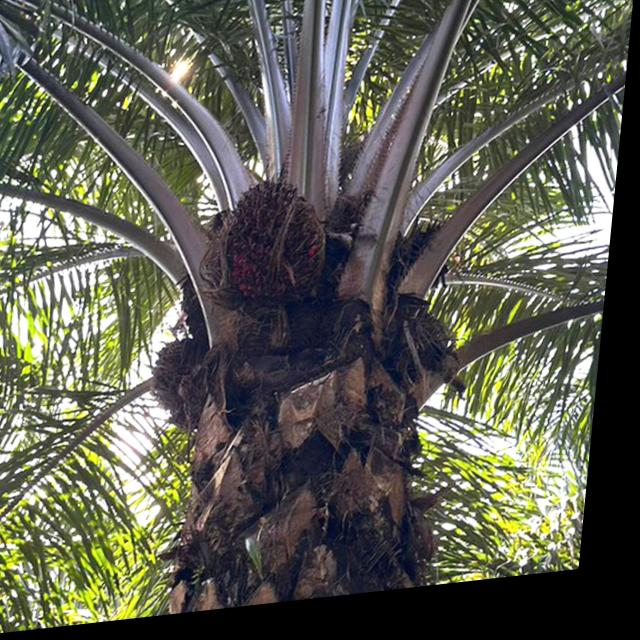ripe: (206, 171, 349, 325)
